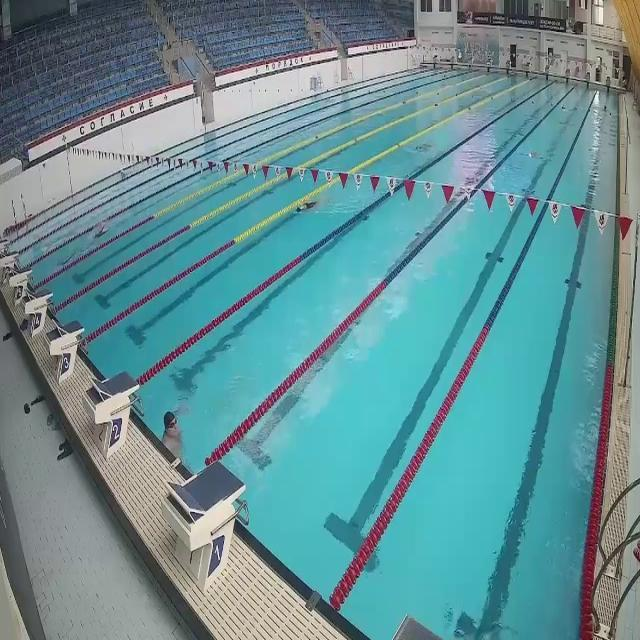Swimming: (62, 223, 110, 264), (162, 411, 183, 460), (297, 198, 325, 211), (415, 143, 433, 154), (522, 151, 543, 160)
